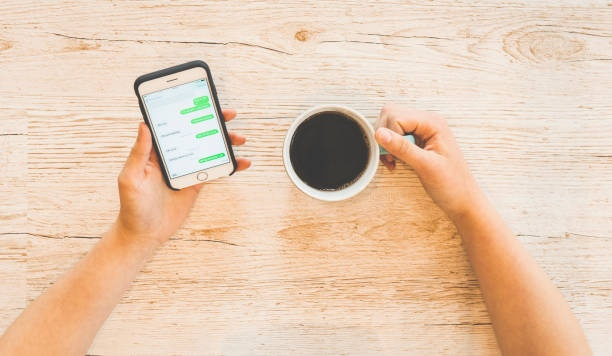phone: (132, 59, 238, 192)
